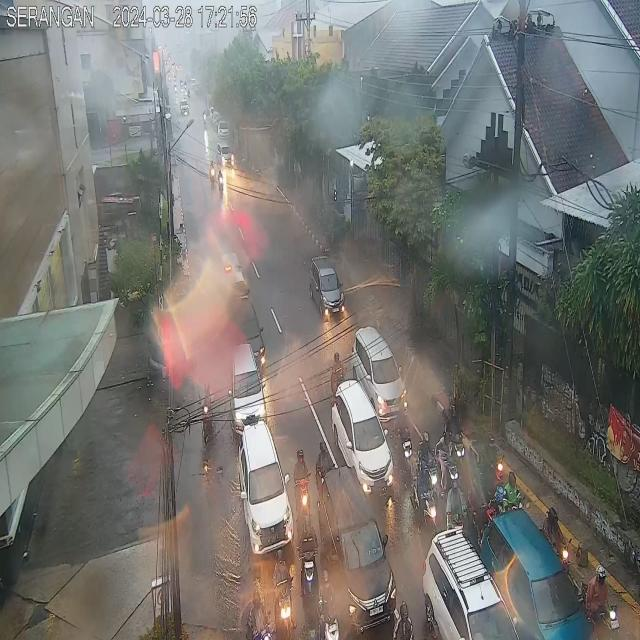car: (481, 507, 594, 640), (318, 464, 396, 637), (422, 525, 520, 640), (238, 422, 294, 557), (332, 376, 393, 496), (352, 326, 408, 425), (227, 344, 267, 435), (310, 258, 346, 318)
motorcycle: (580, 564, 620, 640), (271, 548, 296, 640), (540, 508, 571, 580), (298, 516, 320, 609), (410, 465, 438, 538), (316, 569, 340, 640), (416, 430, 438, 506), (293, 447, 312, 527), (390, 404, 412, 473), (443, 404, 465, 472), (435, 432, 459, 494), (245, 587, 272, 640), (446, 480, 464, 536), (316, 442, 335, 493), (200, 385, 215, 442)
